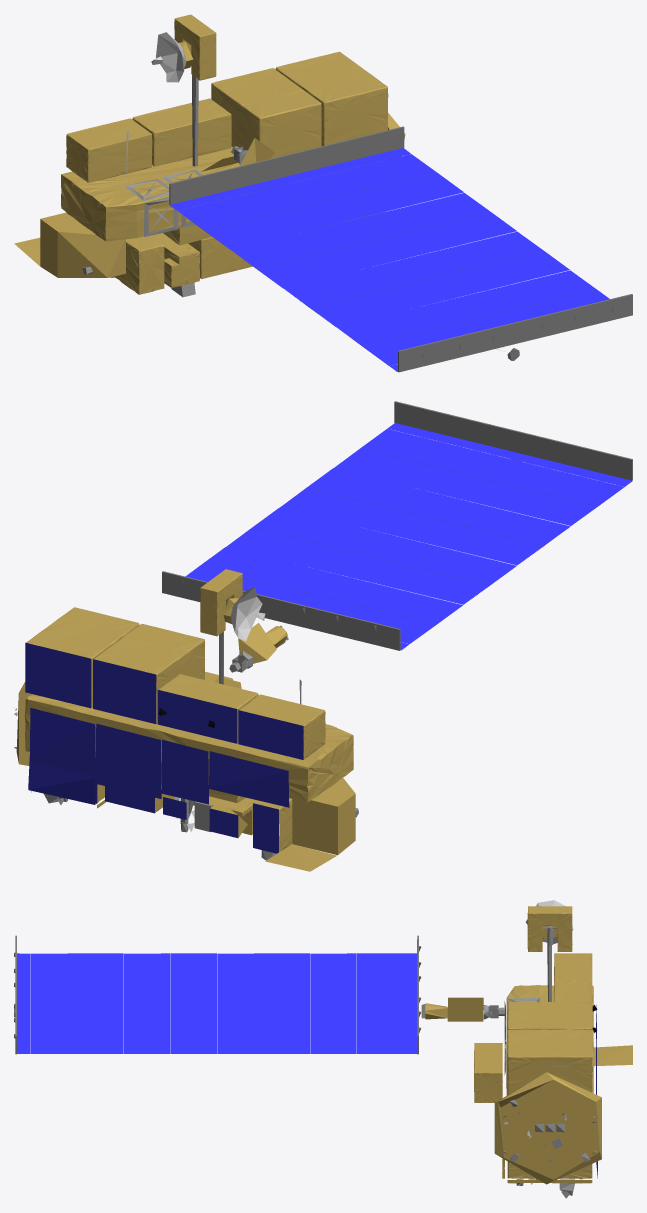
File: terra.glb
3 views of the same model, one above another, from view 1: azimuth 30°, elevation 25°; view 2: azimuth 150°, elevation 25°; view 3: azimuth 270°, elevation 25° (orthographic). The views are drawn at different scales.
Visible parts, largest first — view 1: Terra_vFINAL [Layer17], Terra_vFINAL [Layer16], Terra_vFINAL [Layer1], Terra_vFINAL [Layer13], Terra_vFINAL [Layer2], Terra_vFINAL [Layer18], Terra_vFINAL [Layer11], Terra_vFINAL [Layer12], Terra_vFINAL [Layer19], Terra_vFINAL [Layer3], Terra_vFINAL [Layer9], Terra_vFINAL [Layer4] (+2 smaller); view 2: Terra_vFINAL [Layer17], Terra_vFINAL [Layer15], Terra_vFINAL [Layer16], Terra_vFINAL [Layer1], Terra_vFINAL [Layer18], Terra_vFINAL [Layer13], Terra_vFINAL [Layer2], Terra_vFINAL [Layer11], Terra_vFINAL [Layer9], Terra_vFINAL [Layer12], Terra_vFINAL [Layer19], Terra_vFINAL [Layer20] (+1 smaller); view 3: Terra_vFINAL [Layer17], Terra_vFINAL [Layer18], Terra_vFINAL [Layer2], Terra_vFINAL [Layer13], Terra_vFINAL [Layer9], Terra_vFINAL [Layer10], Terra_vFINAL [Layer19], Terra_vFINAL [Layer11], Terra_vFINAL [Layer1], Terra_vFINAL [Layer12], Terra_vFINAL [Layer16], Terra_vFINAL [Layer6].
Boxes of the visible parts, x1,y1,x2,y2 form: Terra_vFINAL [Layer17]: (170,148,609,371); Terra_vFINAL [Layer16]: (169,126,632,372); Terra_vFINAL [Layer1]: (61,146,387,245); Terra_vFINAL [Layer13]: (211,68,321,157); Terra_vFINAL [Layer2]: (275,51,388,145); Terra_vFINAL [Layer18]: (14,41,405,277); Terra_vFINAL [Layer11]: (66,118,152,182); Terra_vFINAL [Layer12]: (132,98,231,166); Terra_vFINAL [Layer19]: (82,75,251,297); Terra_vFINAL [Layer3]: (114,235,164,294); Terra_vFINAL [Layer9]: (174,14,216,80); Terra_vFINAL [Layer4]: (152,233,199,288); Terra_vFINAL [Layer17]: (185,423,631,649); Terra_vFINAL [Layer15]: (25,642,303,853); Terra_vFINAL [Layer16]: (162,401,632,650); Terra_vFINAL [Layer1]: (24,682,353,802); Terra_vFINAL [Layer18]: (16,598,355,871); Terra_vFINAL [Layer13]: (94,624,204,723); Terra_vFINAL [Layer2]: (26,607,139,707); Terra_vFINAL [Layer11]: (239,694,325,759); Terra_vFINAL [Layer9]: (200,569,242,636); Terra_vFINAL [Layer12]: (158,674,258,742); Terra_vFINAL [Layer19]: (14,631,358,860); Terra_vFINAL [Layer20]: (231,587,265,641); Terra_vFINAL [Layer17]: (17,953,416,1053); Terra_vFINAL [Layer18]: (425,926,632,1184); Terra_vFINAL [Layer2]: (507,1029,592,1094); Terra_vFINAL [Layer13]: (507,1002,592,1036); Terra_vFINAL [Layer9]: (527,906,572,951); Terra_vFINAL [Layer10]: (474,1043,502,1102); Terra_vFINAL [Layer19]: (483,926,598,1185); Terra_vFINAL [Layer11]: (554,953,592,1001); Terra_vFINAL [Layer1]: (506,985,593,1095); Terra_vFINAL [Layer12]: (554,981,592,1001); Terra_vFINAL [Layer16]: (14,935,425,1054); Terra_vFINAL [Layer6]: (507,1162,592,1178).
Size of the model in its own units: 13601 by 10277 by 26054.
